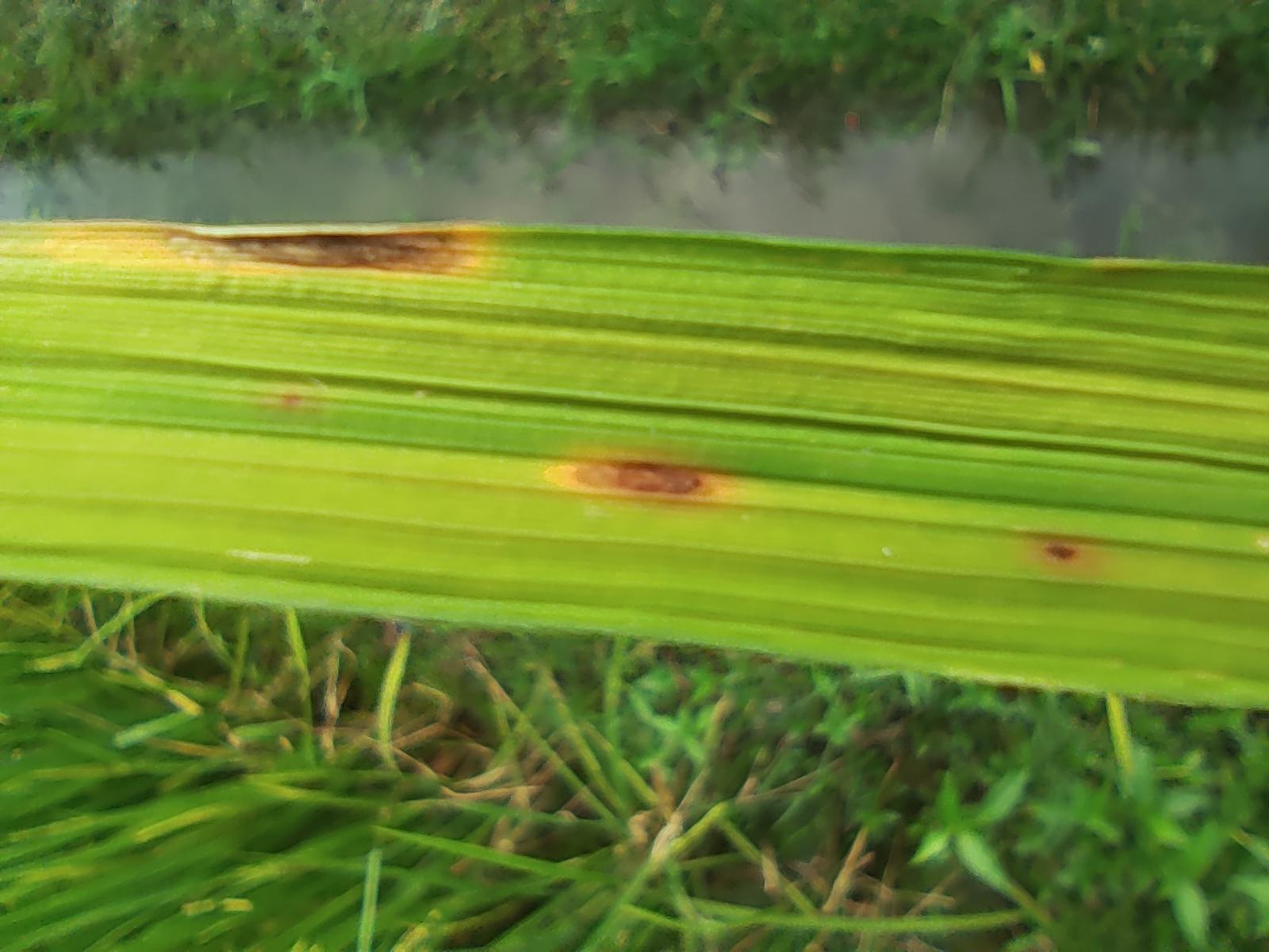LEAF: (327, 0, 975, 951)
NBS: (603, 409, 659, 535), (722, 194, 744, 229), (520, 782, 544, 811)
